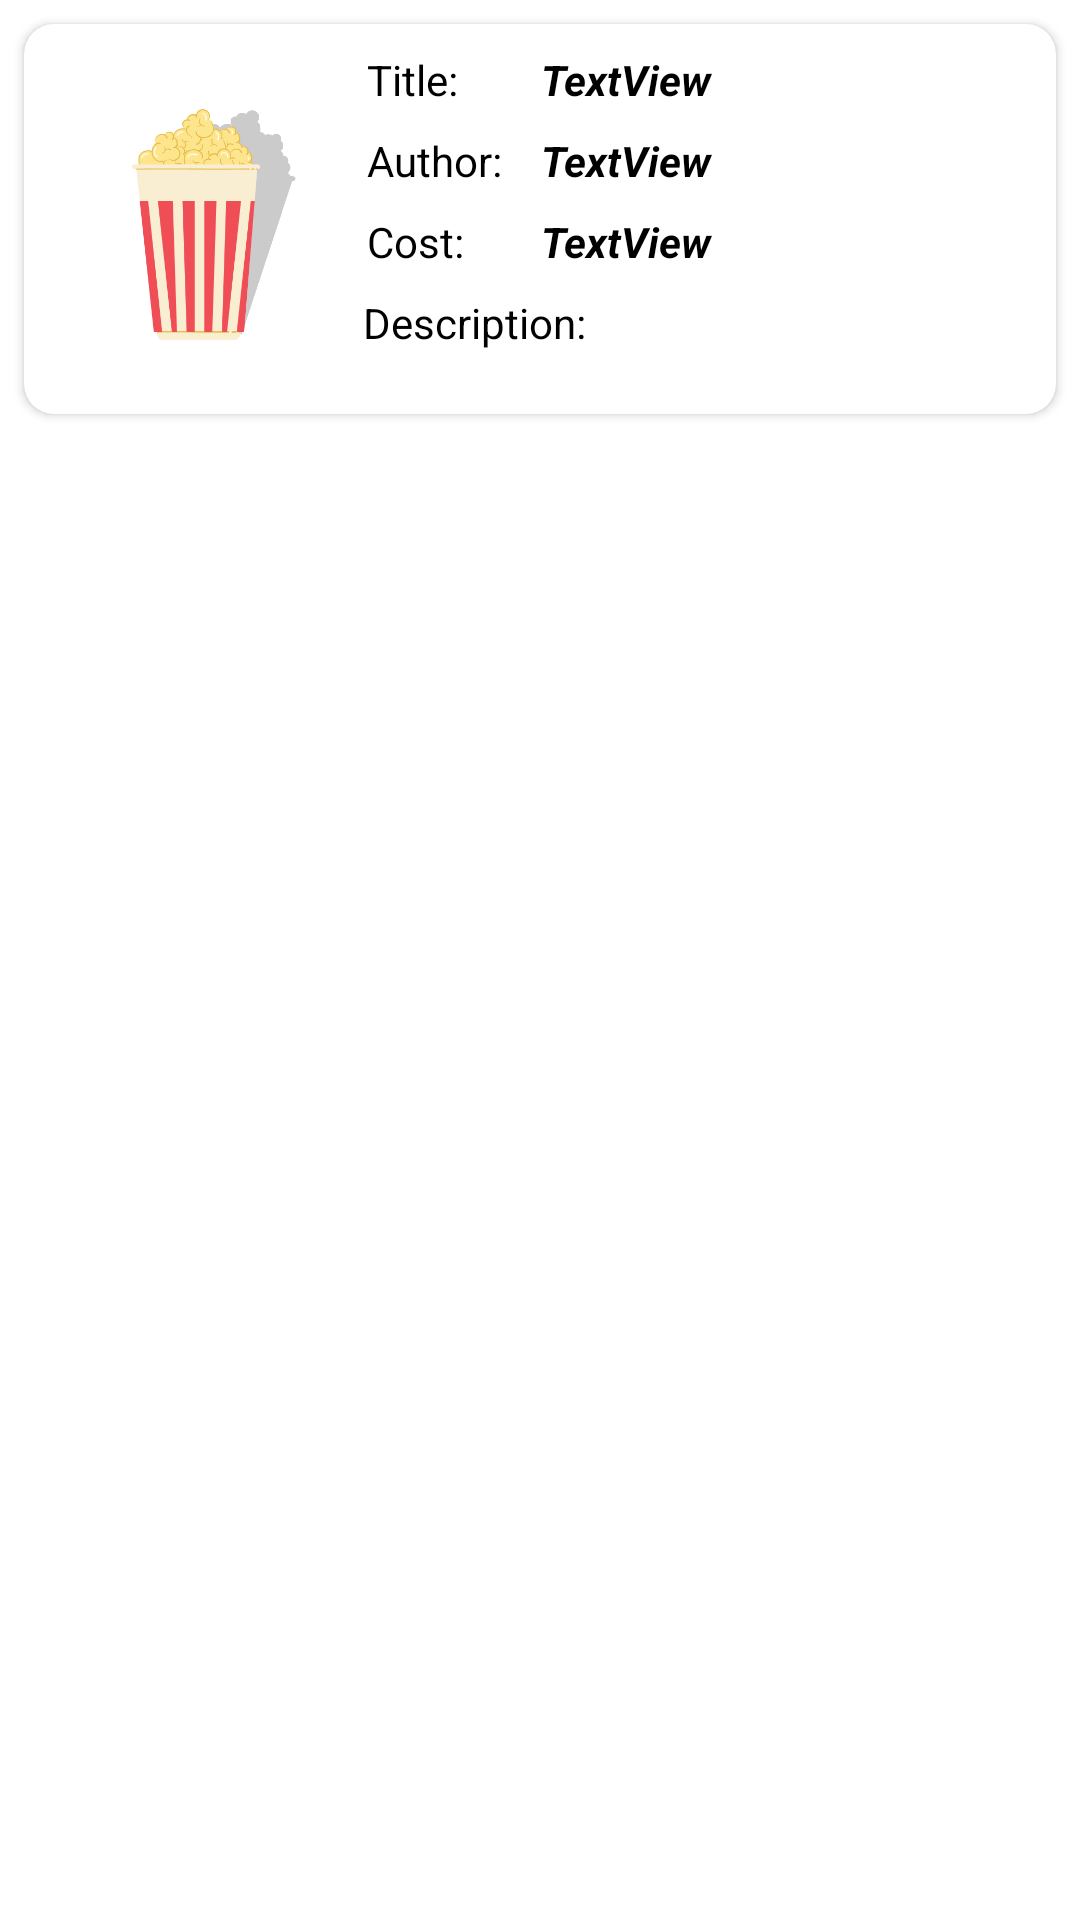

Screen size 1080 x 1920. Icon name, then its center in pixels as [x,y]:
pop: [213,224]
